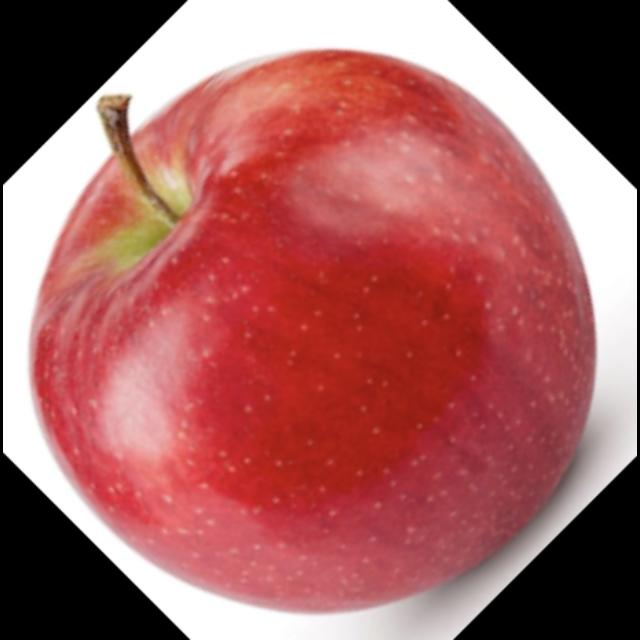Apel Segar: (17, 36, 607, 630)
